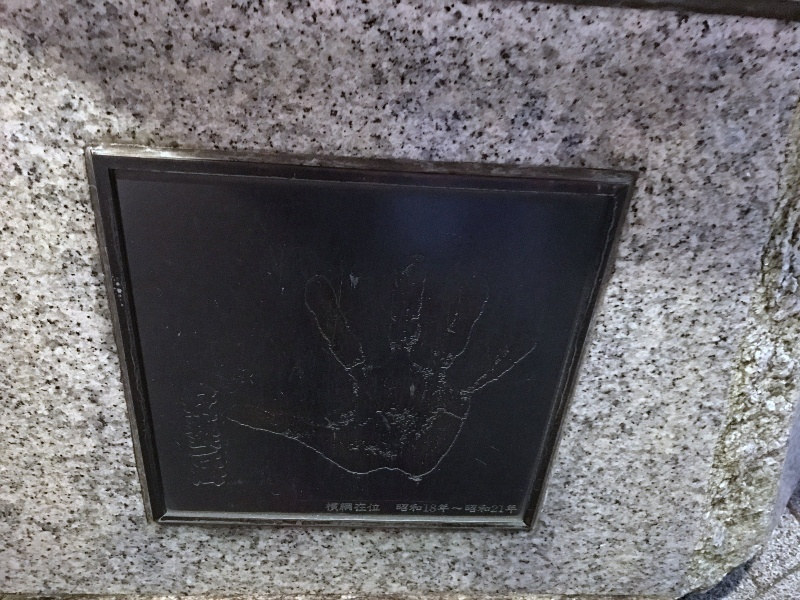text: (193, 380, 208, 489), (209, 380, 224, 489), (180, 380, 192, 489), (225, 380, 229, 489), (401, 504, 416, 514), (417, 504, 432, 514), (433, 504, 448, 514), (449, 504, 464, 514), (465, 504, 480, 514), (481, 504, 496, 514), (497, 504, 512, 514), (337, 503, 352, 512), (353, 503, 368, 512), (369, 503, 381, 512), (325, 503, 336, 512), (513, 504, 519, 514), (396, 504, 400, 514)
